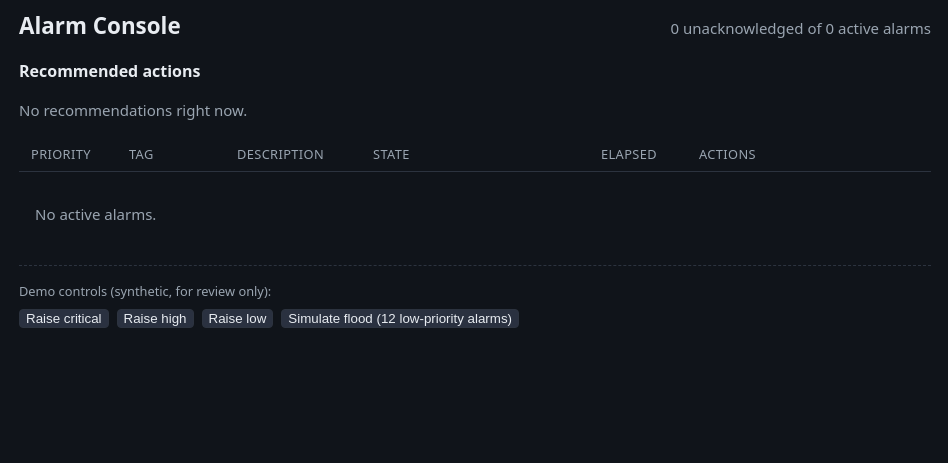
Test: AlarmConsole › raising a critical alarm surfaces it as UNACK and announces the count
Click the button "Raise critical".
click(64, 319)  # box top-left (19, 309), bottom-right (108, 328)
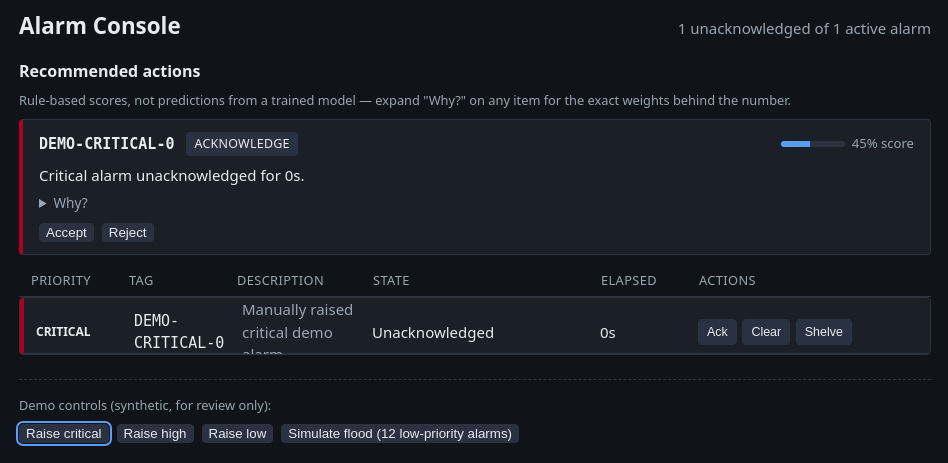
Check: the text "Unacknowledged" is shown, box top-left (372, 322), bottom-right (494, 342)
Check: the text "1 unacknowledged of 1 active alarm" is shown, box top-left (678, 17), bottom-right (931, 40)
